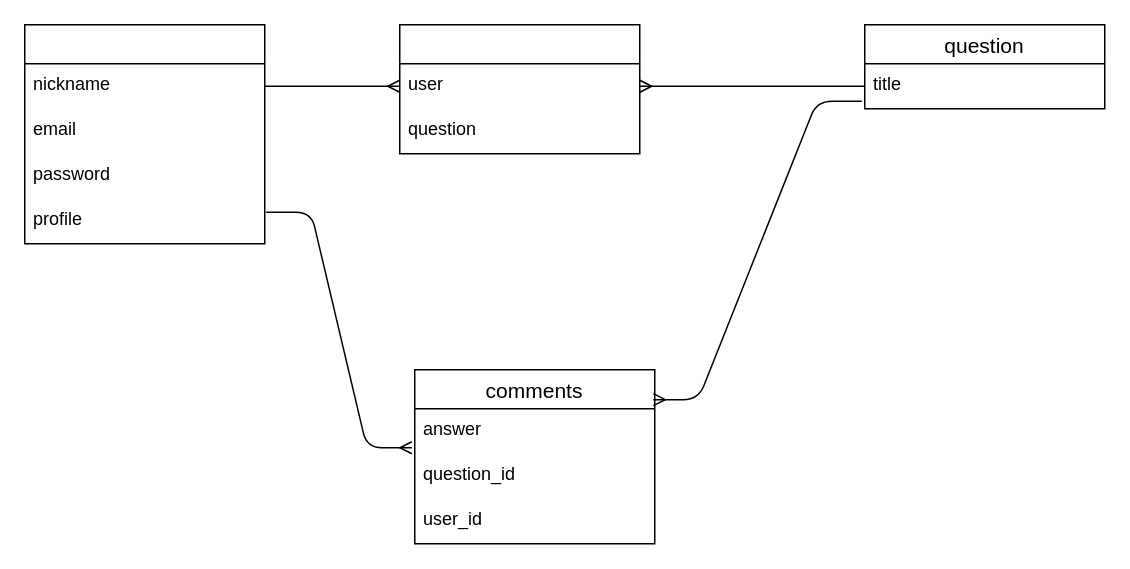
This 1130x569 diagram has some shape labels left out. The box of each missing label's shape, as (x1, y1, x2, y2) in pixels:
user_question: (398, 23, 640, 154)
users: (23, 23, 265, 244)
